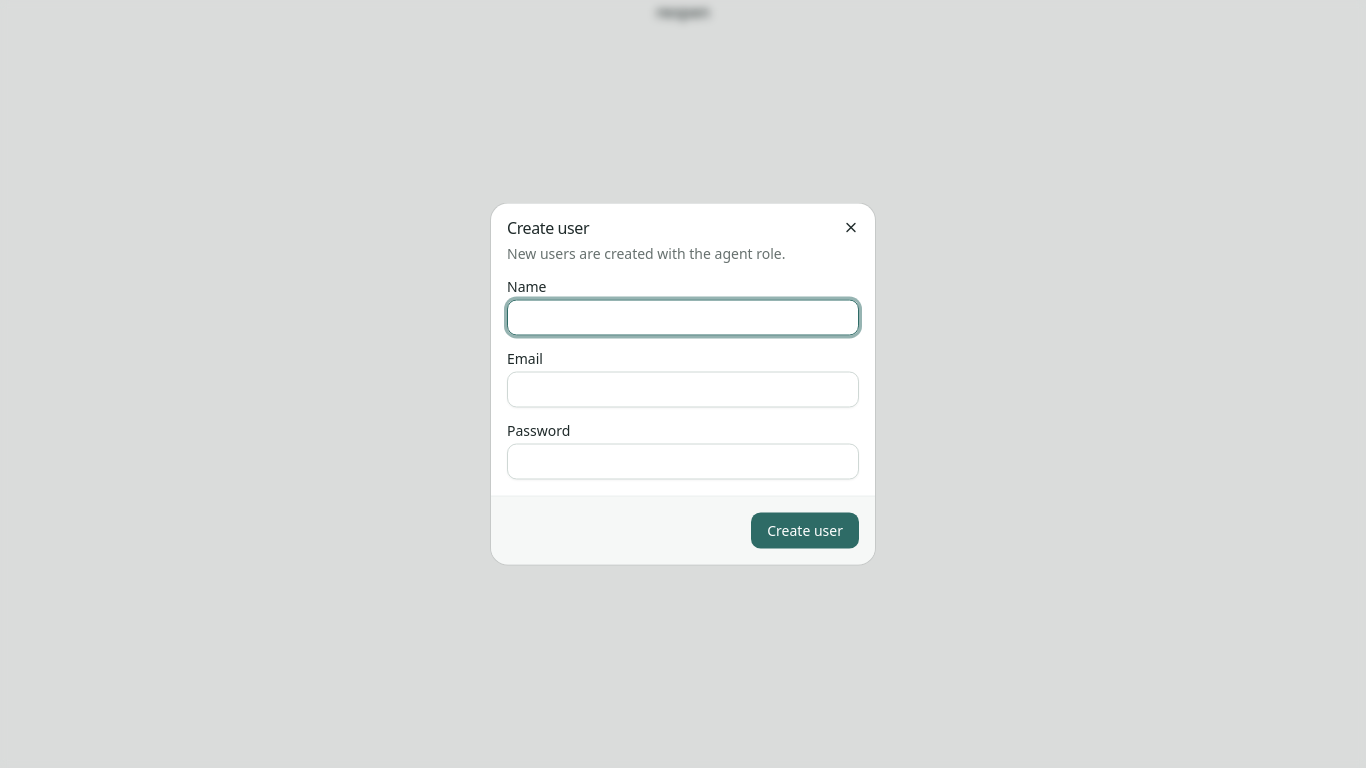
Test case: UserDialog — create mode › surfaces every field error at once and does not submit
This screenshot has width=1366, height=768.
Click the button "Create user" at (805, 530), box [751,512,859,548]
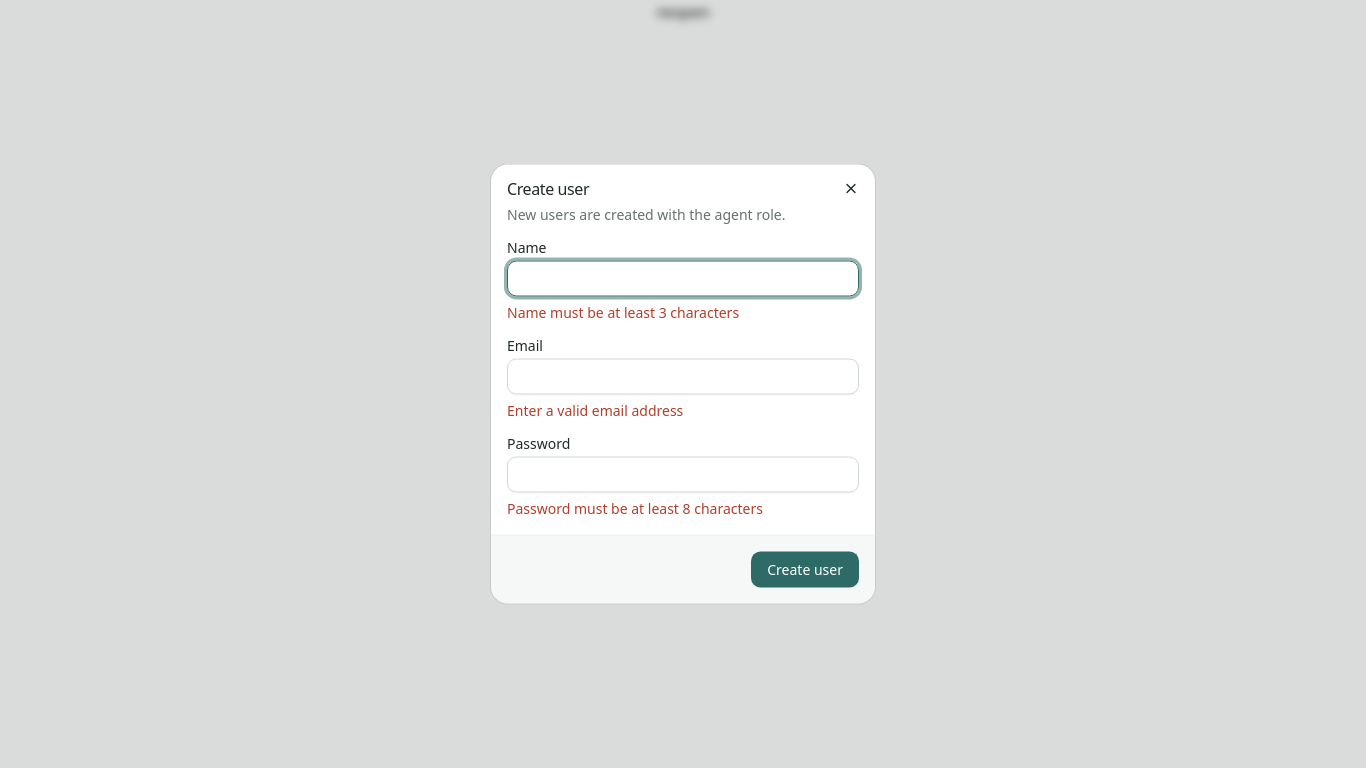
Result: the text "Name must be at least 3 characters" is shown at [507,302,739,322]
Result: the text "Enter a valid email address" is shown at [507,400,683,420]
Result: the text "Password must be at least 8 characters" is shown at [507,498,763,518]
